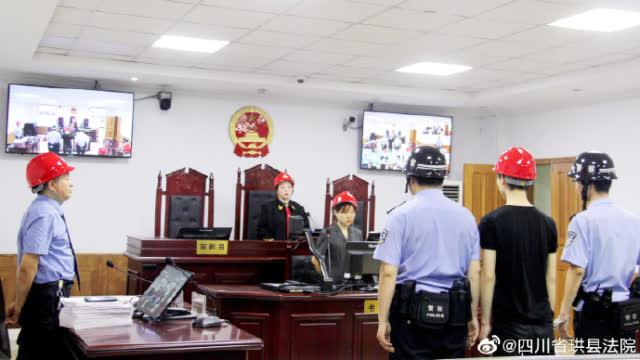helmet: (24, 155, 76, 190), (573, 150, 621, 184), (495, 148, 537, 180), (407, 147, 450, 175), (333, 193, 361, 210), (273, 173, 298, 192)
